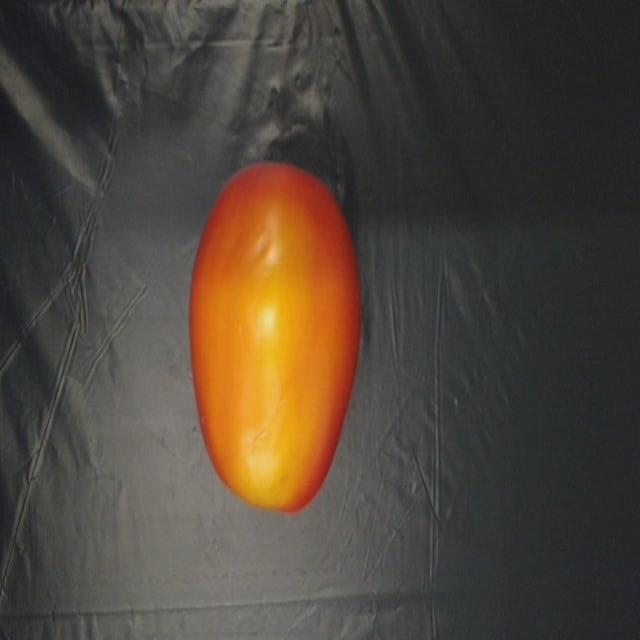sari: (167, 160, 387, 526)
